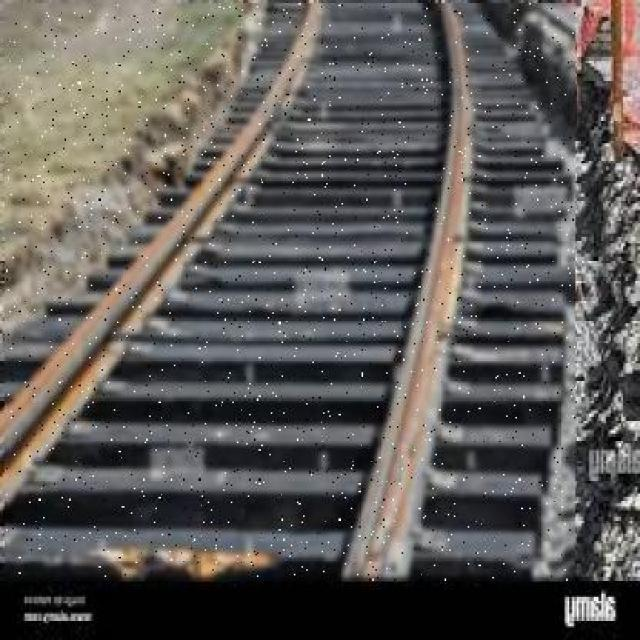rail: (7, 5, 575, 583)
